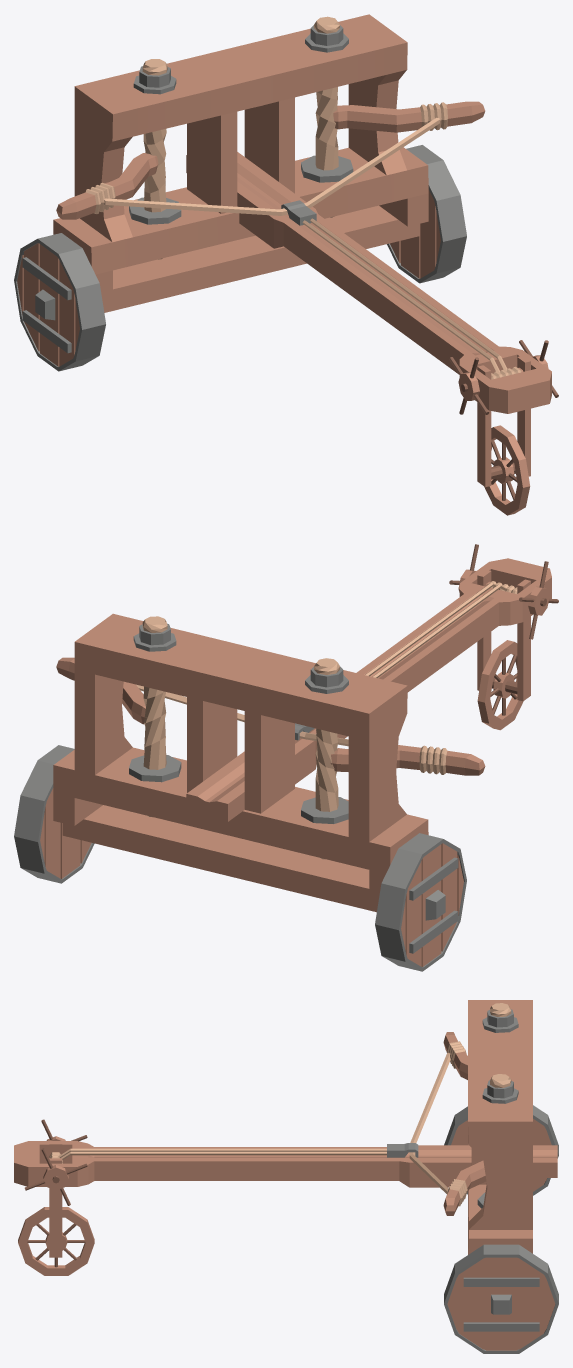
Rendered from ankers-low-poly-medieval-weapons--ballista.glb.
The picture shows the model from 3 angles, top to bottom: view 1: azimuth 30°, elevation 25°; view 2: azimuth 150°, elevation 25°; view 3: azimuth 270°, elevation 25°; orthographic projection. The views are drawn at different scales.
Parts seen in each view (by area): view 1: Ballista; view 2: Ballista; view 3: Ballista.
Part boxes in pixels (left/top/right/bottom): Ballista: left=14, top=14, right=558, bottom=515; Ballista: left=14, top=544, right=558, bottom=971; Ballista: left=14, top=1000, right=558, bottom=1353.
Bounding box in the file's own units: 5.49 × 3.41 × 7.24.
